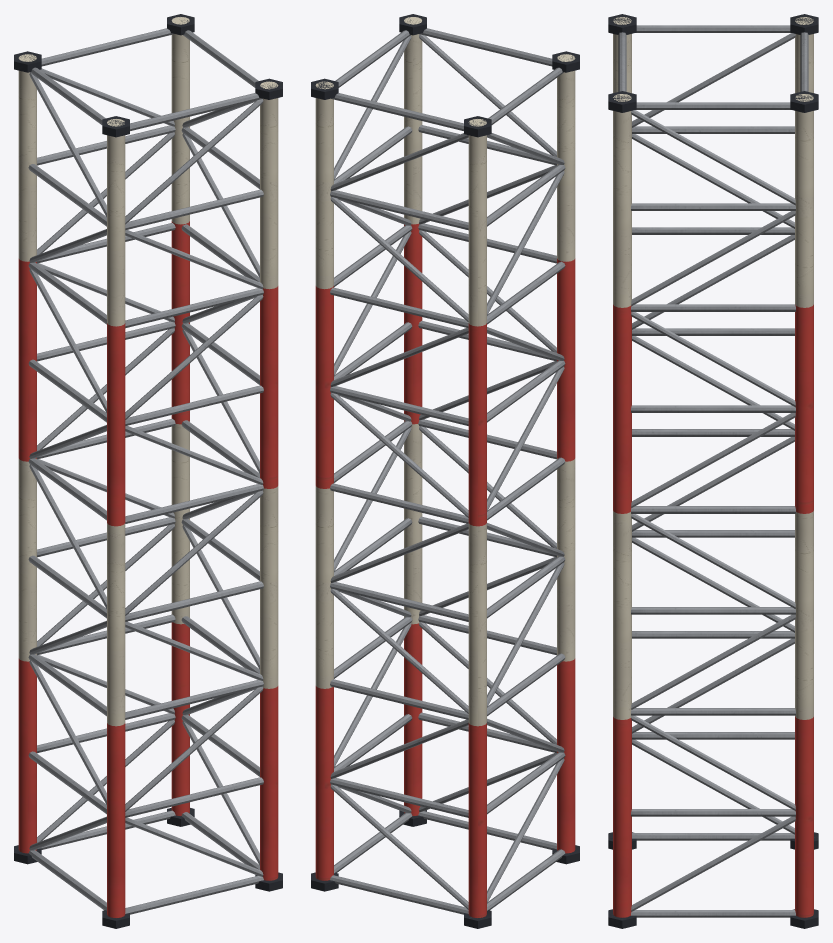
File: tower_pole.glb
The picture shows the model from 3 angles, left to right: view 1: azimuth 30°, elevation 25°; view 2: azimuth 150°, elevation 25°; view 3: azimuth 270°, elevation 25°; orthographic projection. The views are drawn at different scales.
Parts seen in each view (by area): view 1: Body.007; view 2: Body.007; view 3: Body.007.
Part boxes in pixels (x1=…): Body.007: x1=14, y1=14, x2=282, y2=928; Body.007: x1=311, y1=14, x2=579, y2=928; Body.007: x1=608, y1=14, x2=818, y2=928.
Bounding box in the file's own units: 0.472 × 2 × 0.4624.
Materials: 4 (4 with a texture image).
